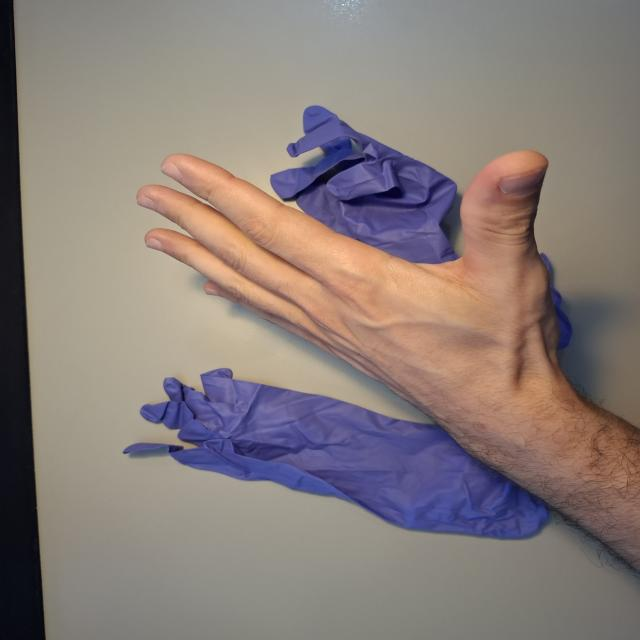glove_off: (135, 144, 574, 403)
